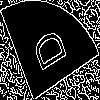D: (24, 25, 68, 79)
